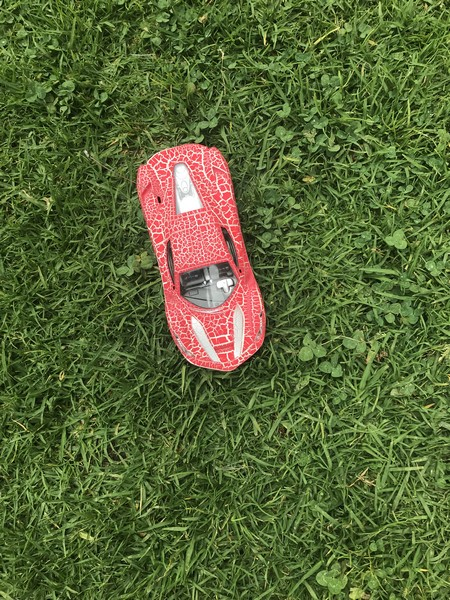RC: (136, 143, 270, 374)
